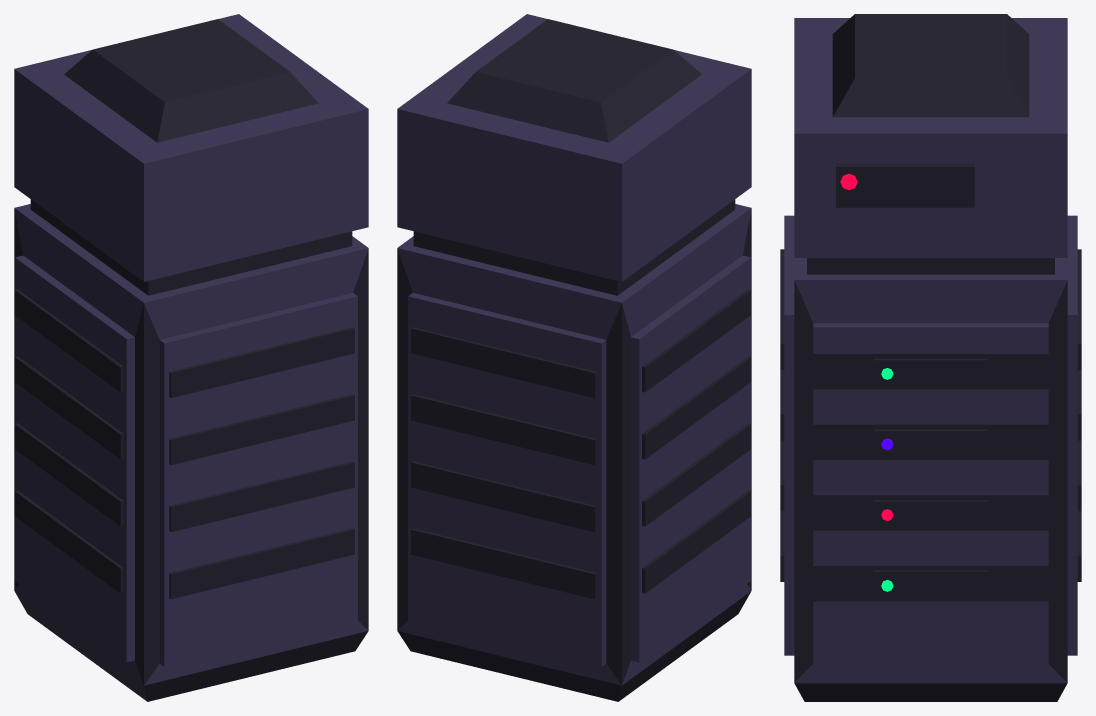
Rendered from Server.fbx.
3 renders of one model, left to right at view 1: azimuth 30°, elevation 25°; view 2: azimuth 150°, elevation 25°; view 3: azimuth 270°, elevation 25°, orthographic. The views are drawn at different scales.
Visible parts, largest first — view 1: Server; view 2: Server; view 3: Server.
Boxes of the visible parts, <box> form: Server: <box>14,14,368,701</box>; Server: <box>397,14,751,701</box>; Server: <box>780,14,1081,701</box>.
Size of the model in its own units: 1.11 by 2.43 by 1.1.
